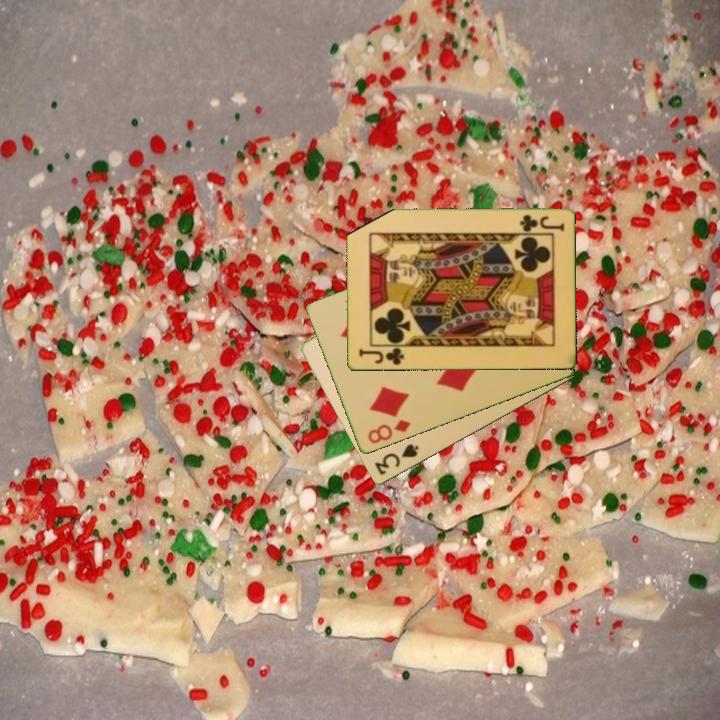3s: (371, 441, 422, 478)
8d: (364, 416, 413, 447)
Jc: (355, 345, 406, 368), (516, 211, 567, 234)
